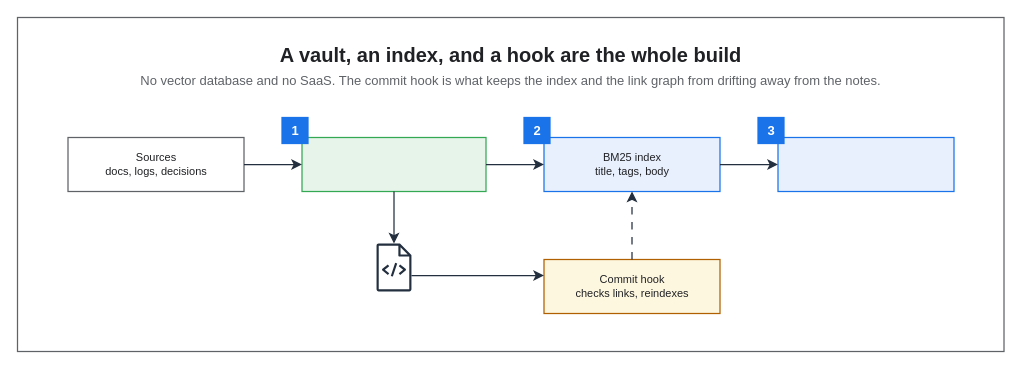
The diagram is 1022 pixels wide and 370 high, and some of its shapes have lost their labels. Each missing label, with the box of its shape:
Agent and search CLI the only consumers: (777, 136, 954, 192)
git history and review: (370, 243, 418, 291)
Obsidian vault markdown plus frontmatter: (301, 136, 486, 192)
